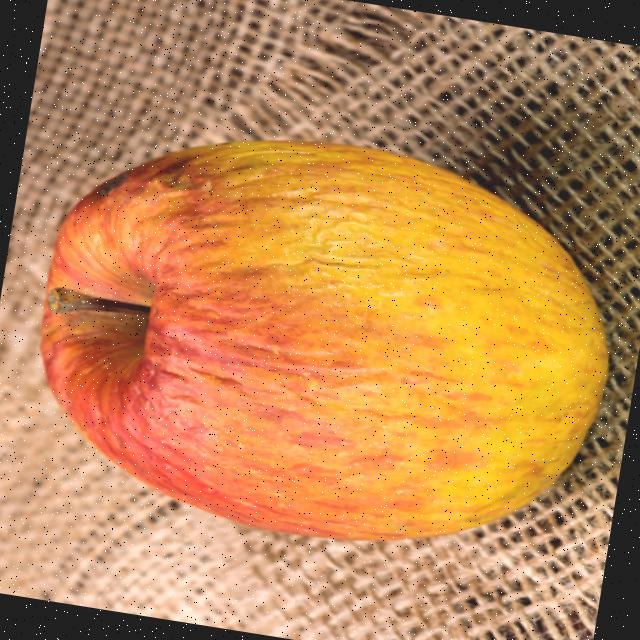overripe: (5, 97, 640, 584)
